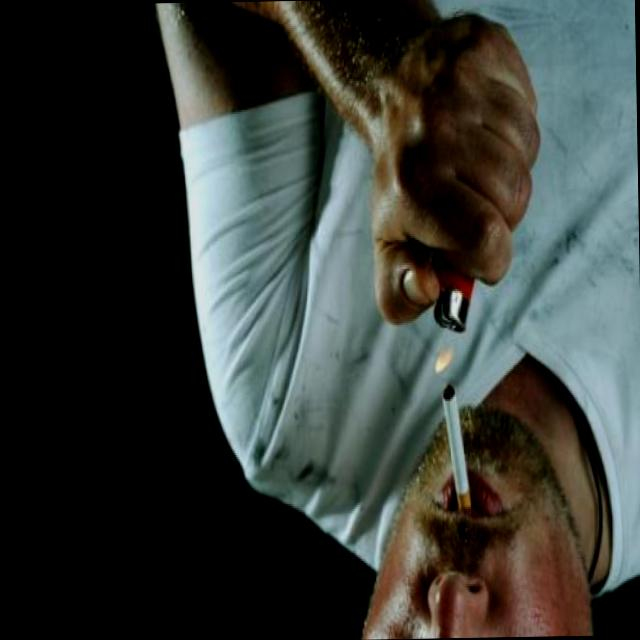cigarette: (441, 380, 474, 512)
